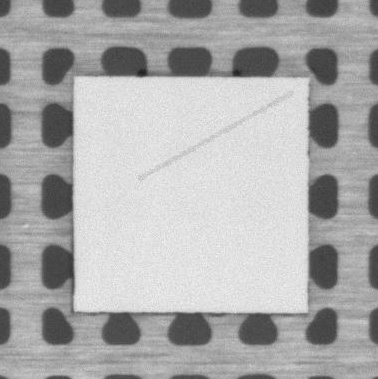DIE_CRACK: (139, 93, 291, 179)
